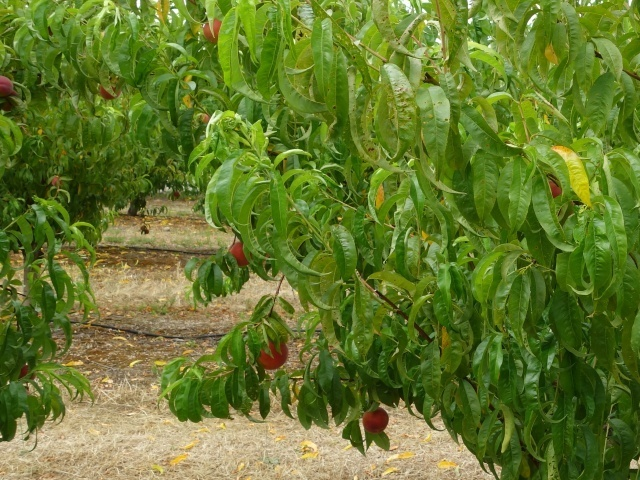peach: (252, 333, 292, 375), (197, 13, 224, 48), (359, 405, 391, 434), (224, 238, 252, 270), (96, 79, 124, 104), (1, 76, 19, 103)
